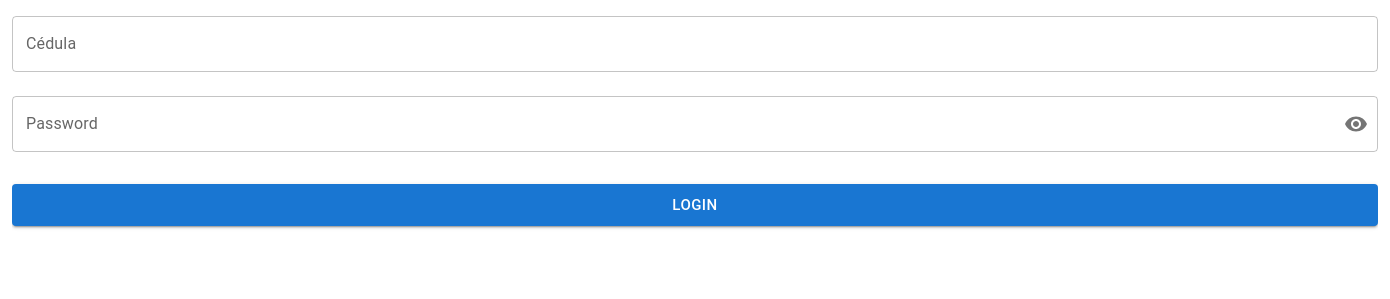
Test case: LoginForm › validates cedula format (must be 6-10 digits)
Type "12345" into the field with test id "login-form-cedula-field". click: (695, 44)
box: left=12, top=16, right=1378, bottom=72
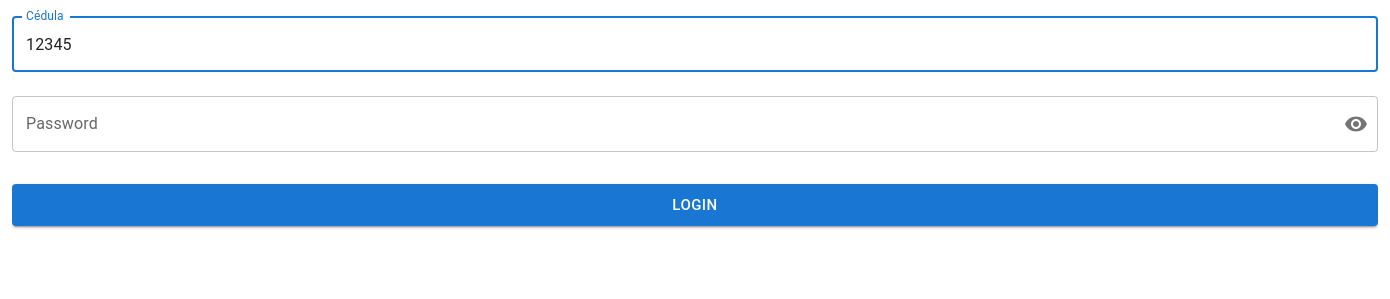
Click the button with test id "login-form-submit-button". click: (695, 205)
box: left=12, top=184, right=1378, bottom=226
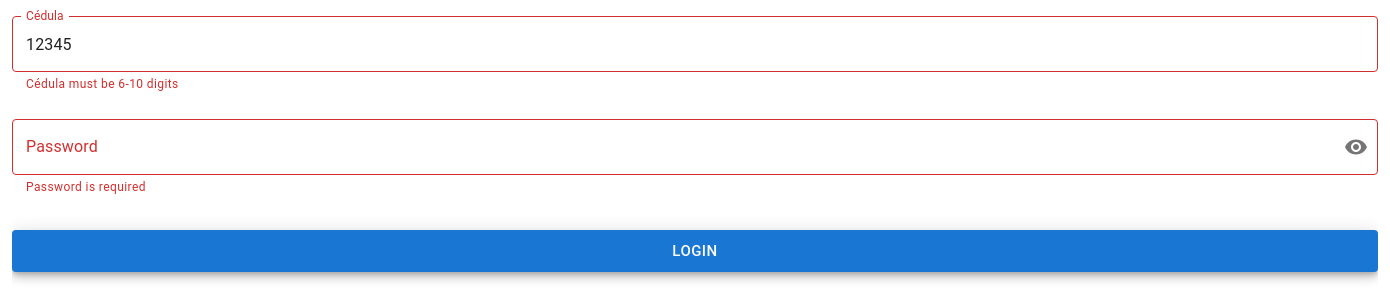
Check: the text "Cédula must be 6-10 digits" is shown, box left=26, top=77, right=179, bottom=91
